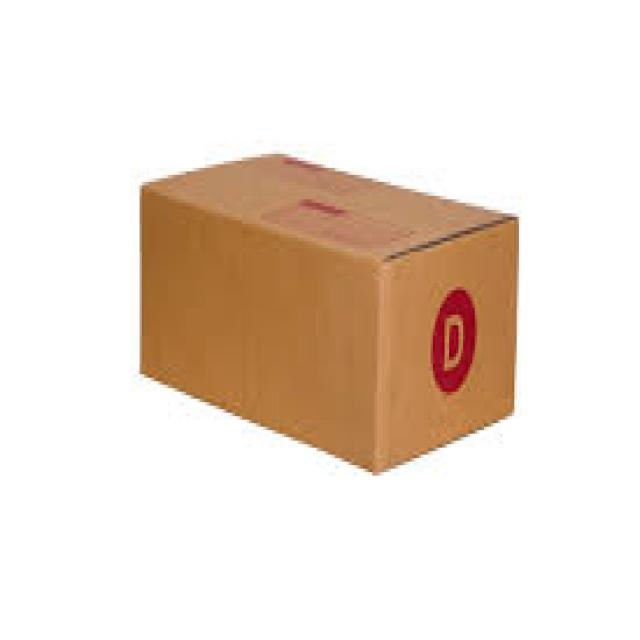box: (118, 129, 544, 512)
